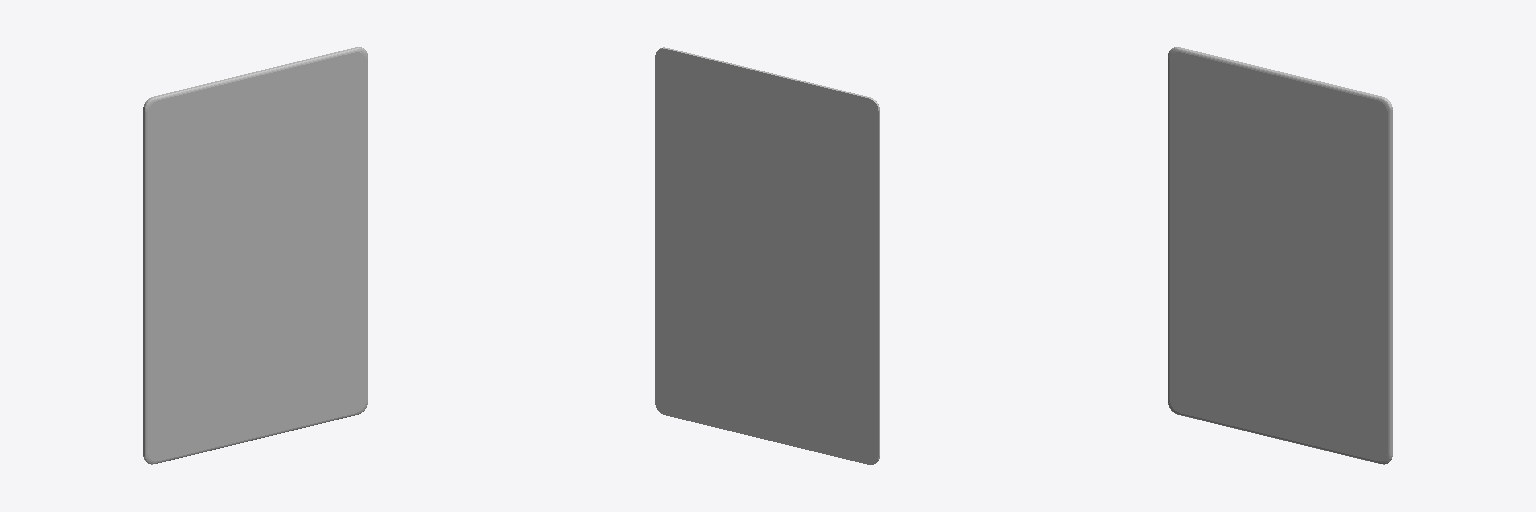
The model's file is UI_button2.obj.
3 views of the same model, side by side, from view 1: azimuth 30°, elevation 25°; view 2: azimuth 150°, elevation 25°; view 3: azimuth 330°, elevation 25° (orthographic).
Parts seen in each view (by area): view 1: UI_button2; view 2: UI_button2; view 3: UI_button2.
Boxes of the visible parts, <box> form: UI_button2: <box>143,47,367,464</box>; UI_button2: <box>655,47,879,464</box>; UI_button2: <box>1168,47,1392,464</box>.
Bounding box in the file's own units: 0.2118 × 0.3321 × 0.0037.